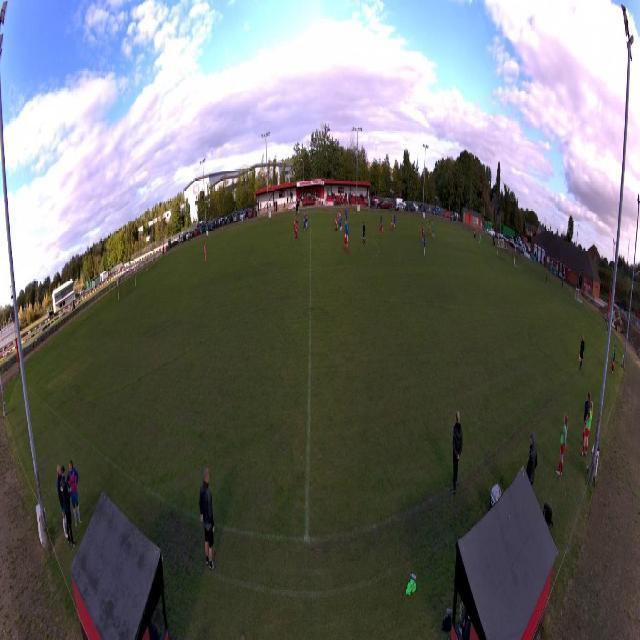player: (343, 228, 349, 255), (362, 220, 366, 246), (294, 219, 298, 243), (345, 220, 349, 244), (379, 219, 383, 240), (293, 215, 297, 235), (339, 214, 343, 233), (334, 214, 338, 233), (423, 233, 426, 257), (427, 220, 431, 238), (431, 221, 435, 239), (303, 216, 307, 233), (338, 207, 342, 223), (305, 211, 308, 231), (204, 241, 207, 261), (303, 211, 306, 230), (345, 207, 348, 226), (391, 215, 394, 234), (421, 226, 424, 245), (479, 232, 482, 249), (380, 215, 383, 229), (394, 211, 396, 230), (422, 222, 424, 229)
